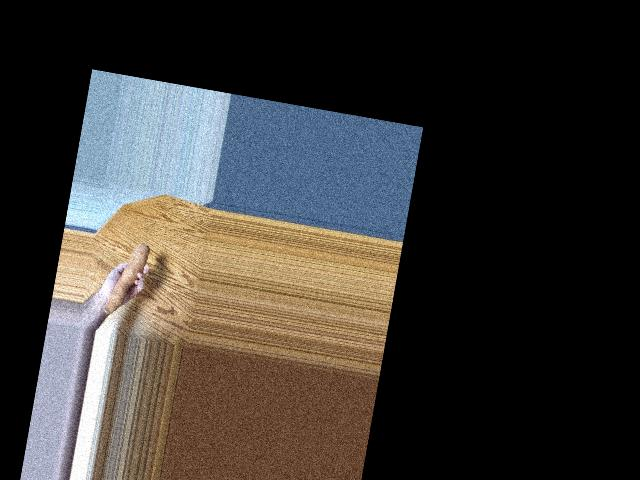sweet_potato: (103, 238, 152, 317)
